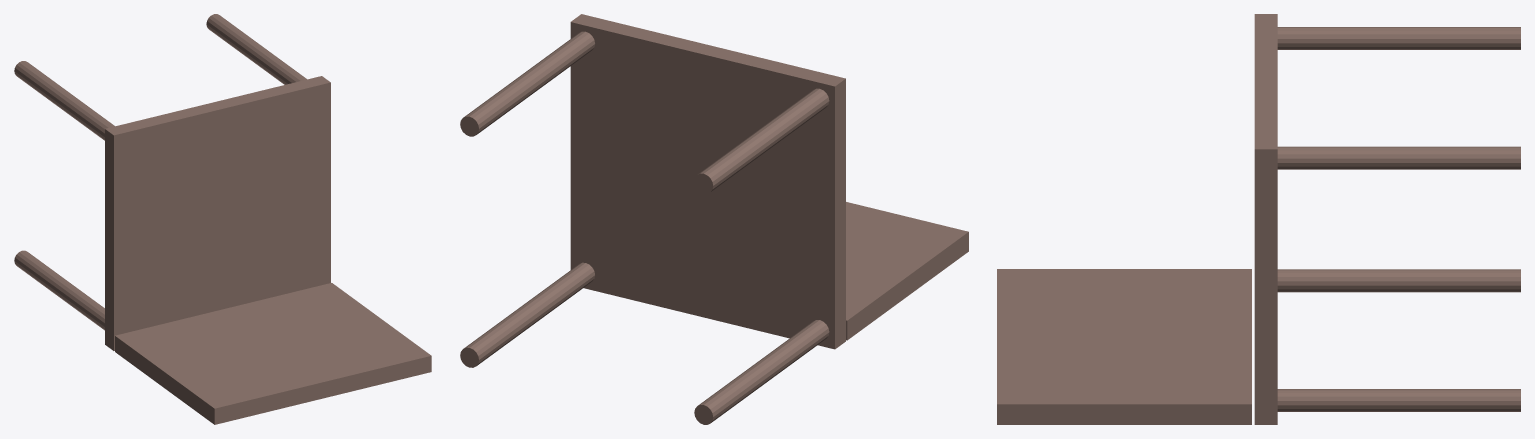
The model's file is chair_retrieval.glb.
3 views of the same model, side by side, from view 1: azimuth 30°, elevation 25°; view 2: azimuth 150°, elevation 25°; view 3: azimuth 270°, elevation 25° (orthographic). The views are drawn at different scales.
Visible parts, largest first — view 1: world; view 2: world; view 3: world.
Boxes of the visible parts, x1,y1,x2,y2 form: world: (14,14,431,424); world: (460,14,968,424); world: (997,14,1520,424).
Bounding box in the file's own units: 0.6974 × 0.6626 × 1.14.
